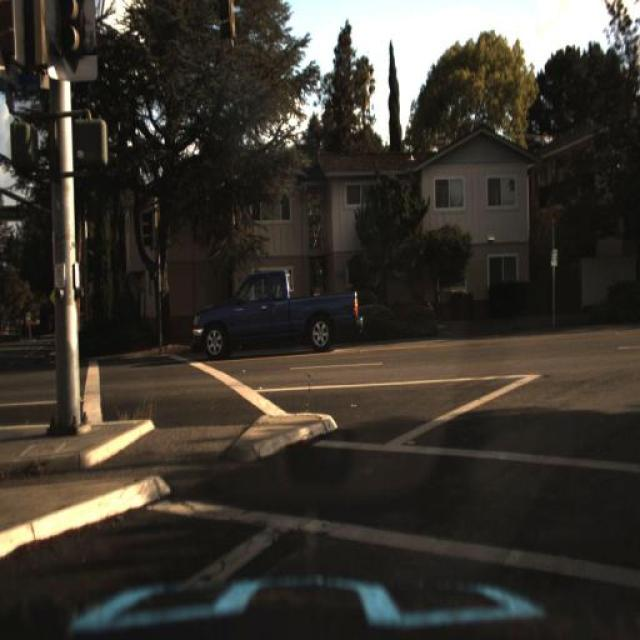car: (186, 264, 366, 364)
